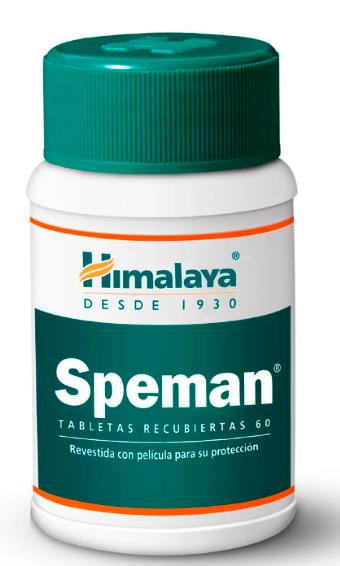brand: (78, 250, 237, 290)
product_name: (49, 358, 274, 419)
